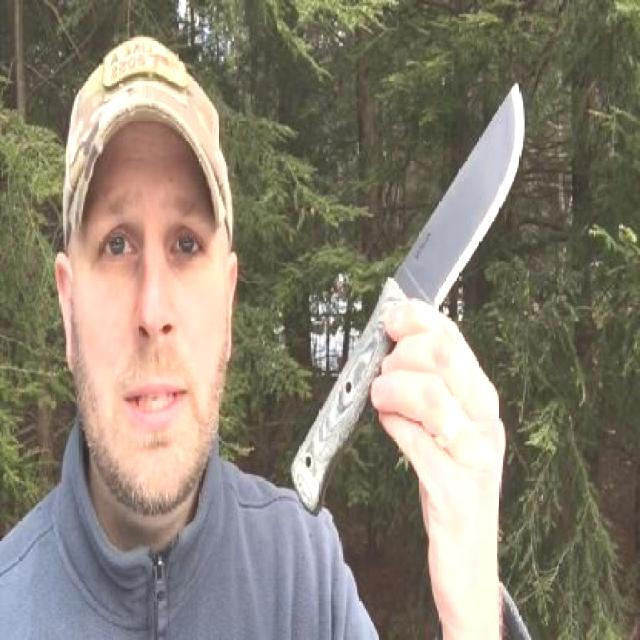knife: (377, 72, 538, 406)
